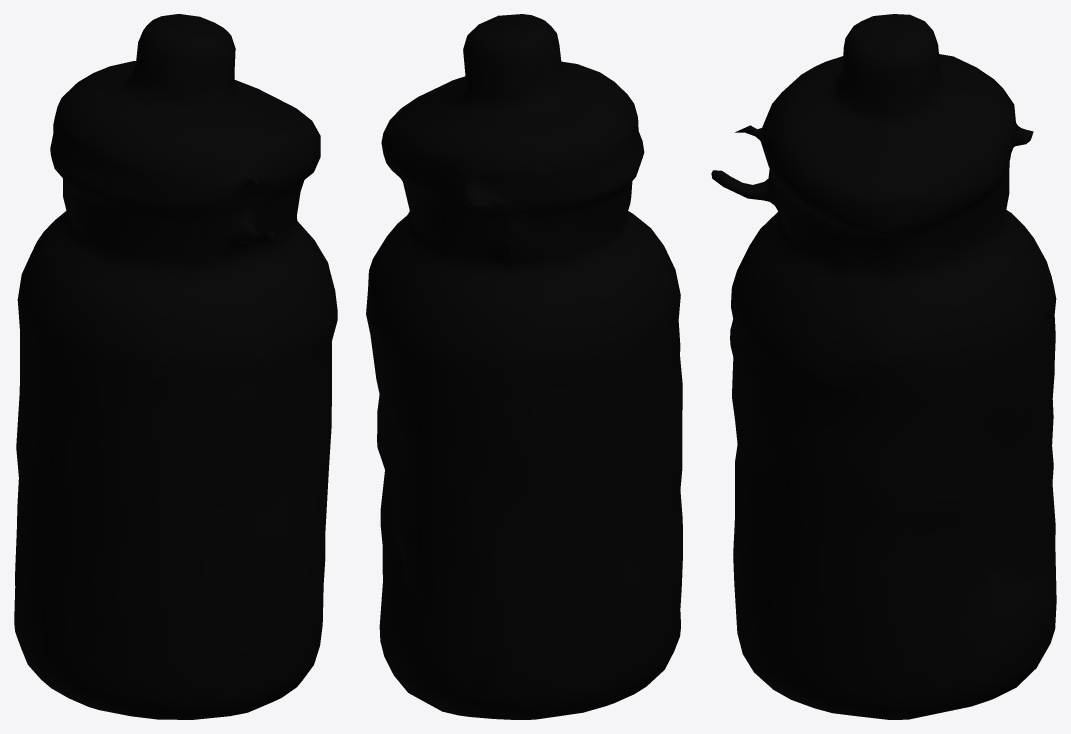
The model's file is HeidiBottle.fbx.
3 views of the same model, side by side, from view 1: azimuth 30°, elevation 25°; view 2: azimuth 150°, elevation 25°; view 3: azimuth 270°, elevation 25° (orthographic).
Visible parts, largest first — view 1: HeidiBottle; view 2: HeidiBottle; view 3: HeidiBottle.
Boxes of the visible parts, x1,y1,x2,y2 form: HeidiBottle: [14, 14, 337, 719]; HeidiBottle: [366, 14, 682, 719]; HeidiBottle: [711, 14, 1056, 719].
Size of the model in its own units: 29.95 by 65.33 by 31.1.
1 material, 1 textured.
